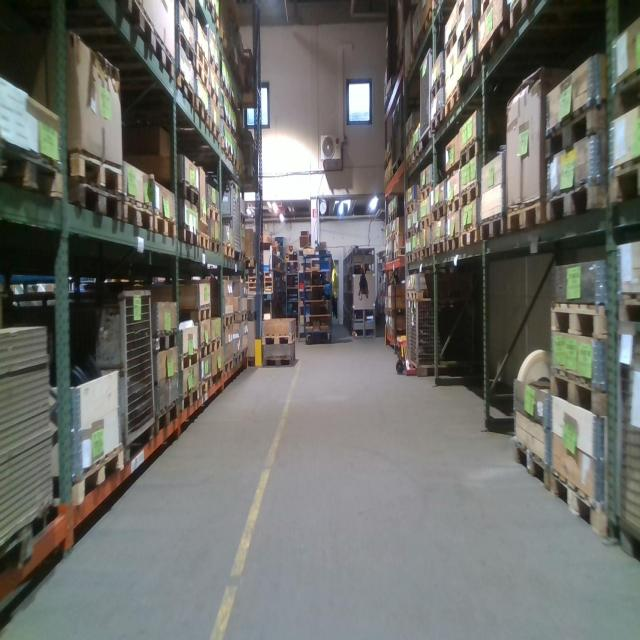pallet: (42, 444, 124, 519), (550, 470, 614, 551), (0, 134, 64, 211), (548, 363, 619, 424), (544, 94, 609, 160), (546, 177, 608, 227), (548, 297, 611, 346), (65, 185, 125, 226), (60, 147, 127, 182), (512, 436, 553, 489), (142, 18, 173, 88), (609, 60, 640, 121), (507, 196, 546, 244), (478, 22, 514, 74), (100, 2, 148, 40), (608, 155, 640, 210), (117, 195, 156, 237), (152, 398, 180, 444), (614, 286, 640, 333), (460, 139, 499, 168), (406, 287, 468, 305), (154, 182, 201, 205), (458, 16, 482, 59), (174, 68, 197, 111), (508, 1, 542, 29), (151, 327, 180, 359), (176, 302, 213, 327), (457, 61, 478, 104), (442, 18, 464, 59), (176, 28, 196, 69), (461, 179, 485, 212), (180, 377, 199, 418), (193, 35, 211, 78), (442, 83, 465, 116), (459, 226, 482, 255), (193, 93, 210, 131), (262, 352, 297, 370), (259, 329, 298, 345), (482, 217, 505, 244), (153, 216, 179, 239), (175, 2, 197, 29), (179, 348, 201, 374), (200, 2, 220, 30), (179, 223, 199, 248), (430, 106, 446, 135), (445, 235, 464, 259), (446, 192, 462, 219), (206, 83, 221, 111), (430, 199, 447, 223), (199, 377, 214, 404), (419, 185, 442, 202), (195, 58, 208, 88), (209, 118, 222, 148), (219, 135, 231, 165), (432, 236, 446, 261), (230, 308, 248, 326), (405, 126, 420, 147), (220, 242, 236, 261), (222, 73, 232, 102), (209, 55, 221, 79), (220, 107, 232, 130), (207, 203, 220, 224), (404, 200, 420, 217), (393, 149, 403, 176), (420, 208, 431, 232), (199, 341, 212, 360), (210, 334, 221, 356), (225, 355, 235, 379), (221, 310, 233, 330), (211, 234, 221, 257), (421, 245, 432, 265), (232, 350, 240, 377), (200, 228, 210, 249), (415, 246, 424, 269), (393, 248, 407, 262), (405, 224, 417, 239), (240, 347, 248, 368), (232, 150, 238, 174), (406, 154, 413, 173), (406, 253, 414, 268), (413, 145, 419, 164), (385, 170, 391, 187), (391, 210, 401, 220), (385, 233, 393, 245), (238, 164, 244, 179), (393, 230, 405, 237), (386, 252, 392, 263)
pallet_truck: (387, 262, 418, 377)
stillage: (61, 280, 160, 465), (609, 312, 639, 557), (411, 297, 473, 378), (416, 49, 444, 151), (211, 177, 242, 261), (405, 297, 410, 361)
